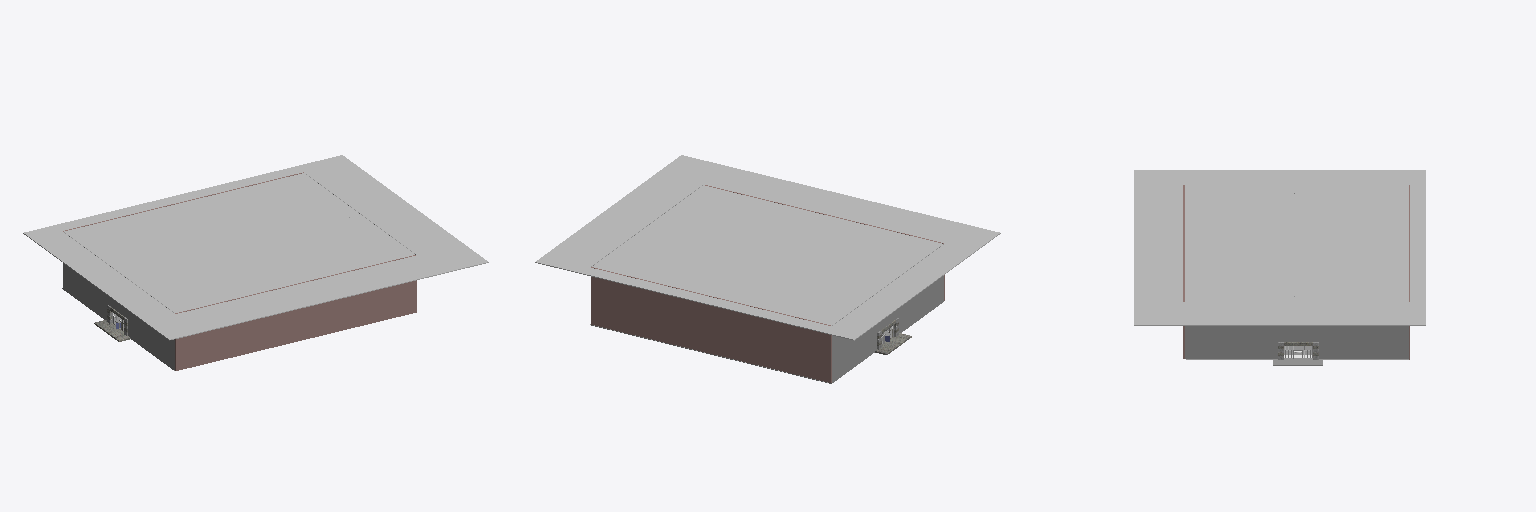
3 renders of one model, left to right at view 1: azimuth 30°, elevation 25°; view 2: azimuth 150°, elevation 25°; view 3: azimuth 270°, elevation 25°, orthographic.
Parts seen in each view (by area): view 1: Cube.001, Extrude.1_226.001, 80meter_X_15heights.2; view 2: Cube.001, Extrude.1_226, 80meter_X_15heights.2; view 3: Cube.001, 80meter_X_15heights.
Part boxes in pixels (x1,y1,x2,y2): Cube.001: (23,155,488,340); Extrude.1_226.001: (175,255,416,370); 80meter_X_15heights.2: (63,232,174,369); Cube.001: (535,155,1000,340); Extrude.1_226: (591,267,831,382); 80meter_X_15heights.2: (832,244,943,382); Cube.001: (1134,170,1425,325); 80meter_X_15heights: (1185,326,1408,358).
Size of the model in its own units: 9988 by 2961 by 7928.
18 materials, 4 textured.